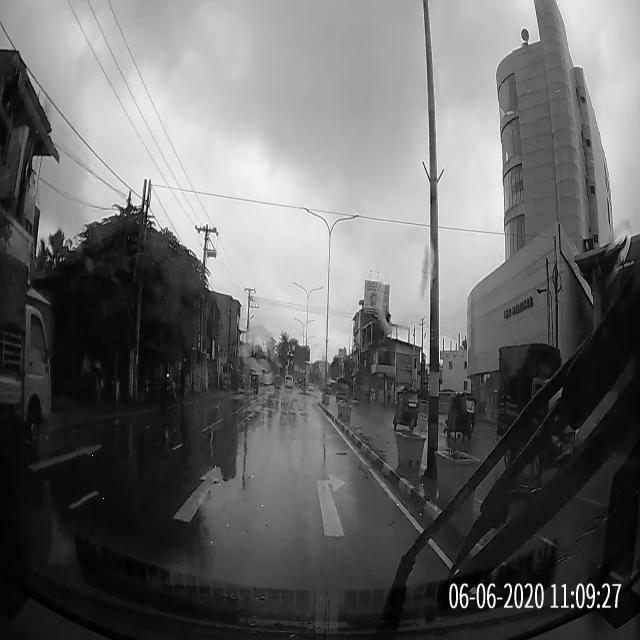forward: (82, 456, 302, 545)
right: (279, 470, 431, 542)
